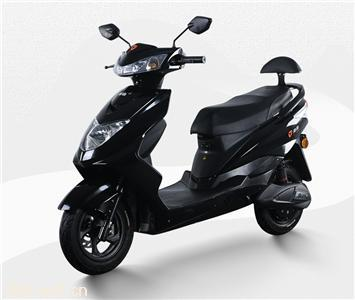MNV: (59, 42, 310, 276)
